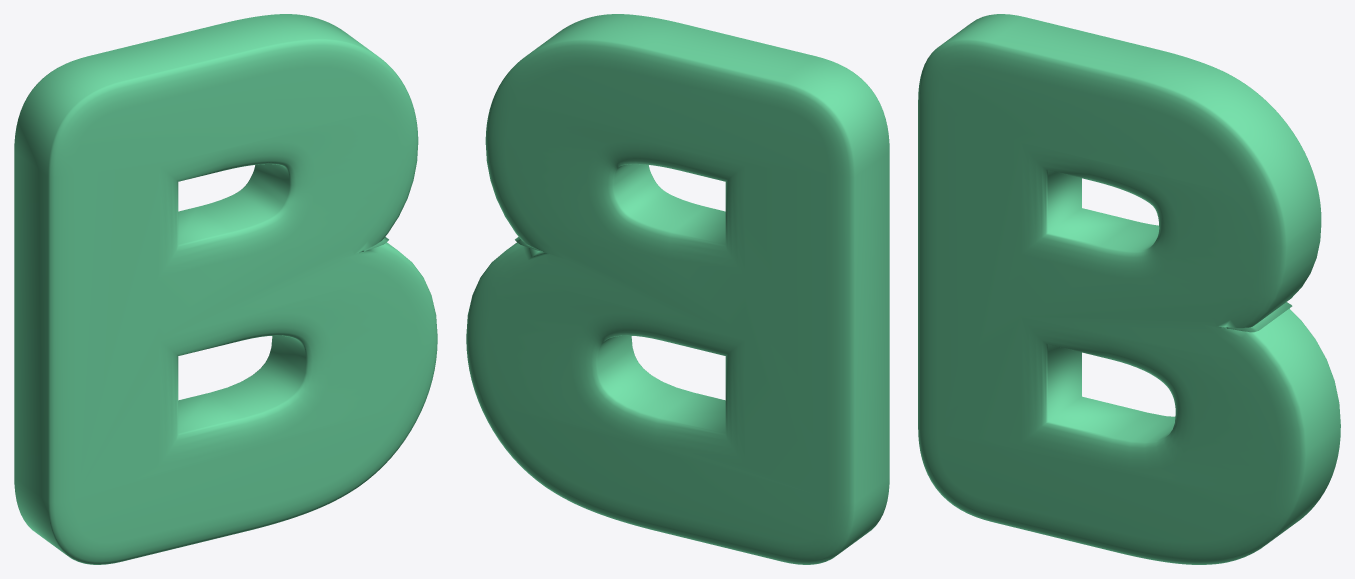
File: RA_Letter_B.fbx
3 views of the same model, side by side, from view 1: azimuth 30°, elevation 25°; view 2: azimuth 150°, elevation 25°; view 3: azimuth 330°, elevation 25° (orthographic).
Parts seen in each view (by area): view 1: RA_Letter_B; view 2: RA_Letter_B; view 3: RA_Letter_B.
Boxes of the visible parts, <box> form: RA_Letter_B: <box>14,14,437,564</box>; RA_Letter_B: <box>466,14,889,564</box>; RA_Letter_B: <box>918,14,1340,564</box>.
Size of the model in its own units: 153 by 180 by 28.
